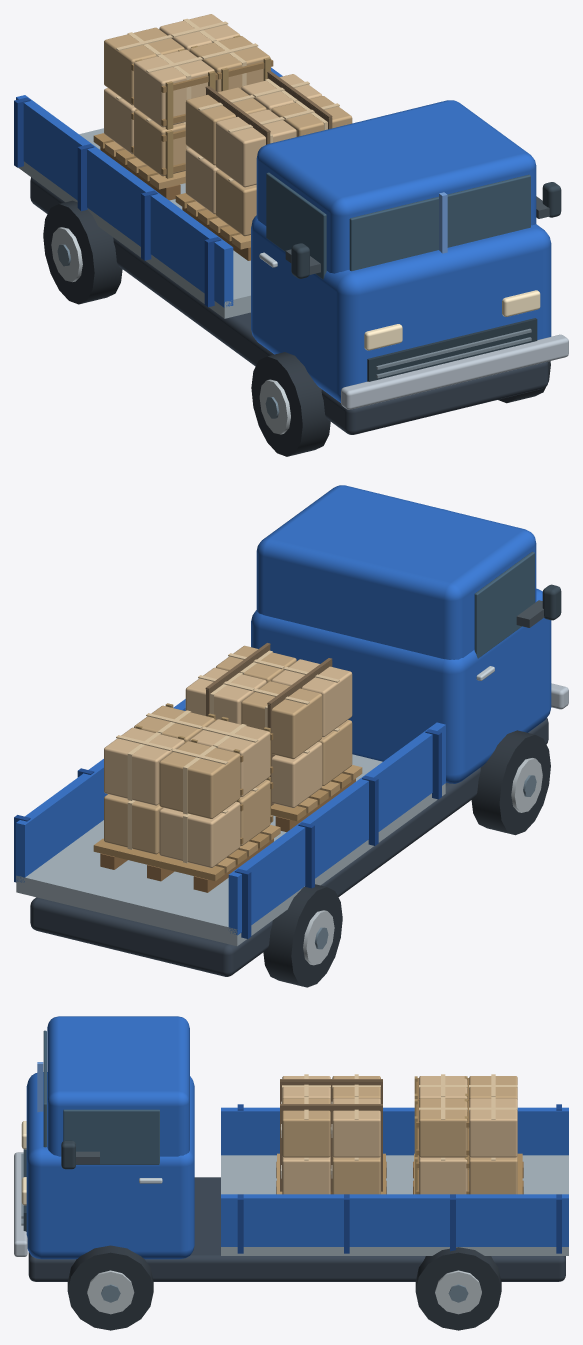
Rendered from truck-1-blue.glb.
3 views of the same model, one above another, from view 1: azimuth 30°, elevation 25°; view 2: azimuth 150°, elevation 25°; view 3: azimuth 270°, elevation 25° (orthographic). The views are drawn at different scales.
Parts seen in each view (by area): view 1: static-16--45, truck-1, static-16--42, static-16--27, static-6--10, static-6--57, static-7--14, static-7--69, static-16--34, static-16--24, static-16--37, static-16--36 (+9 smaller); view 2: static-16--45, truck-1, static-6--10, static-6--57, static-16--27, static-7--69, static-7--14, static-16--42, static-16--34, static-3--7 (×2), static-16--24, static-7--11 (+5 smaller); view 3: static-16--45, truck-1, static-16--27, static-6--10, static-6--57, static-16--42, static-7--14, static-7--69, static-16--24, static-7--11, static-16--34, static-6--40 (+5 smaller).
Boxes of the visible parts, x1=… form: static-16--45: x1=16, y1=67, x2=551, y2=402; truck-1: x1=18, y1=128, x2=568, y2=434; static-16--42: x1=266, y1=172, x2=530, y2=279; static-16--27: x1=43, y1=200, x2=550, y2=456; static-6--10: x1=104, y1=27, x2=270, y2=176; static-6--57: x1=104, y1=14, x2=240, y2=154; static-7--14: x1=185, y1=87, x2=352, y2=236; static-7--69: x1=185, y1=74, x2=321, y2=214; static-16--34: x1=14, y1=97, x2=221, y2=307; static-16--24: x1=51, y1=227, x2=290, y2=434; static-16--37: x1=364, y1=290, x2=540, y2=350; static-16--36: x1=376, y1=328, x2=531, y2=378; static-16--45: x1=16, y1=485, x2=551, y2=935; truck-1: x1=16, y1=509, x2=568, y2=976; static-6--10: x1=104, y1=705, x2=270, y2=854; static-6--57: x1=104, y1=719, x2=270, y2=867; static-16--27: x1=263, y1=730, x2=550, y2=987; static-7--69: x1=185, y1=659, x2=352, y2=807; static-7--14: x1=216, y1=645, x2=352, y2=785; static-16--42: x1=474, y1=551, x2=534, y2=658; static-16--34: x1=14, y1=729, x2=441, y2=938; static-3--7 (×2): x1=93, y1=773, x2=351, y2=881; static-16--24: x1=303, y1=758, x2=542, y2=965; static-7--11: x1=205, y1=643, x2=332, y2=805; static-16--45: x1=26, y1=1016, x2=568, y2=1259; truck-1: x1=14, y1=1062, x2=568, y2=1281; static-16--27: x1=67, y1=1245, x2=501, y2=1330; static-6--10: x1=419, y1=1076, x2=517, y2=1194; static-6--57: x1=419, y1=1076, x2=517, y2=1194; static-16--42: x1=43, y1=1030, x2=159, y2=1164; static-7--14: x1=282, y1=1076, x2=380, y2=1194; static-7--69: x1=282, y1=1076, x2=380, y2=1194; static-16--24: x1=87, y1=1270, x2=481, y2=1314; static-7--11: x1=280, y1=1079, x2=382, y2=1191; static-16--34: x1=237, y1=1104, x2=561, y2=1253; static-6--40: x1=416, y1=1078, x2=469, y2=1194.
Size of the model in its own units: 2.61 by 2.55 by 5.68.
